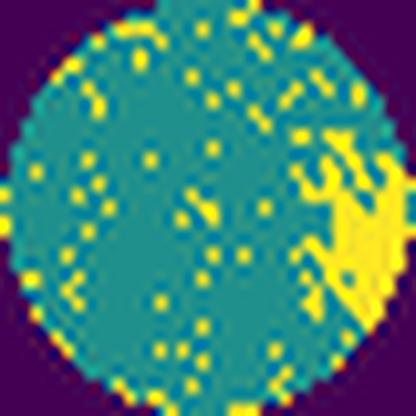Edge-Loc: (296, 146, 415, 334)
